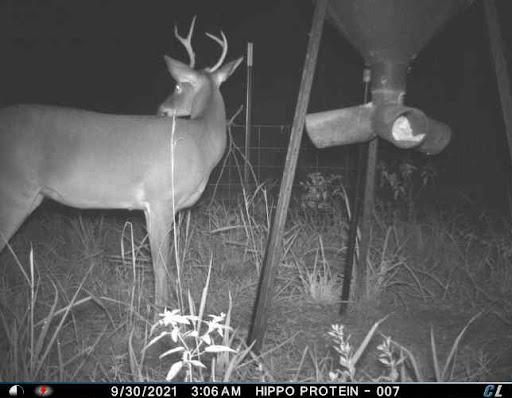Deer: (0, 15, 250, 340)
